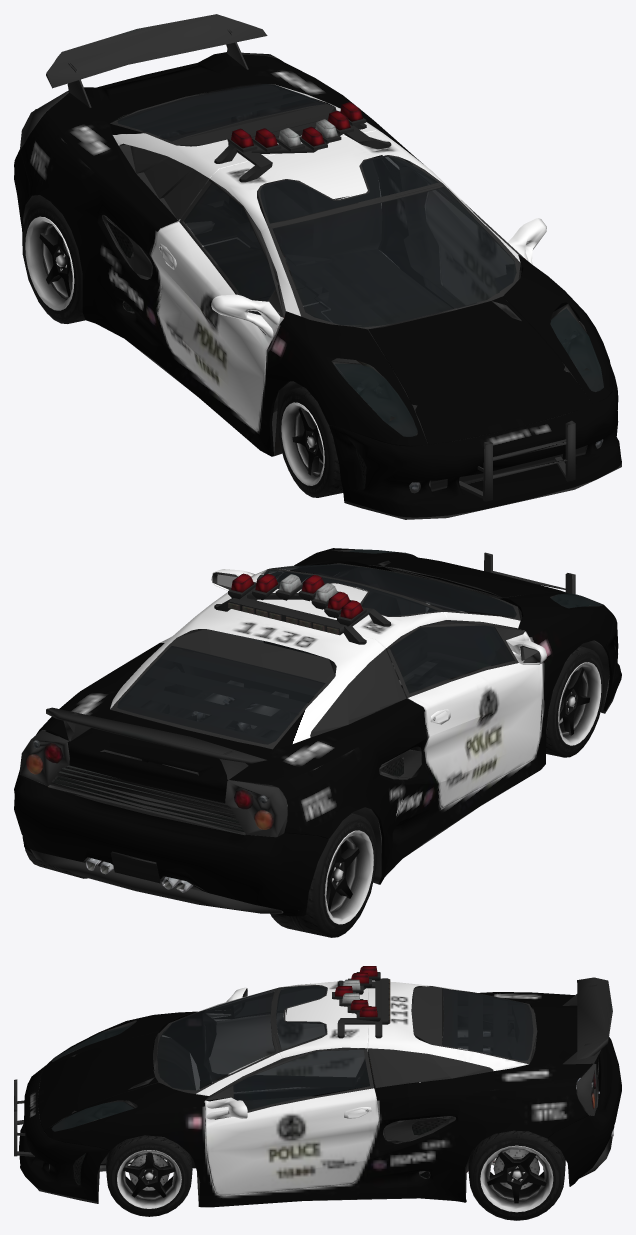
The model's file is interceptor_lo.glb.
The picture shows the model from 3 angles, top to bottom: view 1: azimuth 30°, elevation 25°; view 2: azimuth 150°, elevation 25°; view 3: azimuth 270°, elevation 25°; orthographic projection. The views are drawn at different scales.
Visible parts, largest first — view 1: body, wheel_rr, wheel_fr; view 2: body, wheel_rr, wheel_fr; view 3: body, wheel_rl, wheel_fl.
Boxes of the visible parts, x1,y1,x2,y2 form: body: (14, 14, 621, 519); wheel_rr: (22, 199, 85, 323); wheel_fr: (278, 386, 343, 497); body: (14, 548, 621, 916); wheel_rr: (270, 813, 376, 937); wheel_fr: (546, 646, 604, 757); body: (14, 966, 621, 1207); wheel_rl: (468, 1130, 565, 1220); wheel_fl: (106, 1135, 192, 1216).
Bounding box in the file's own units: 2.19 × 1.5 × 4.59.
Materials: 5 (5 with a texture image).
